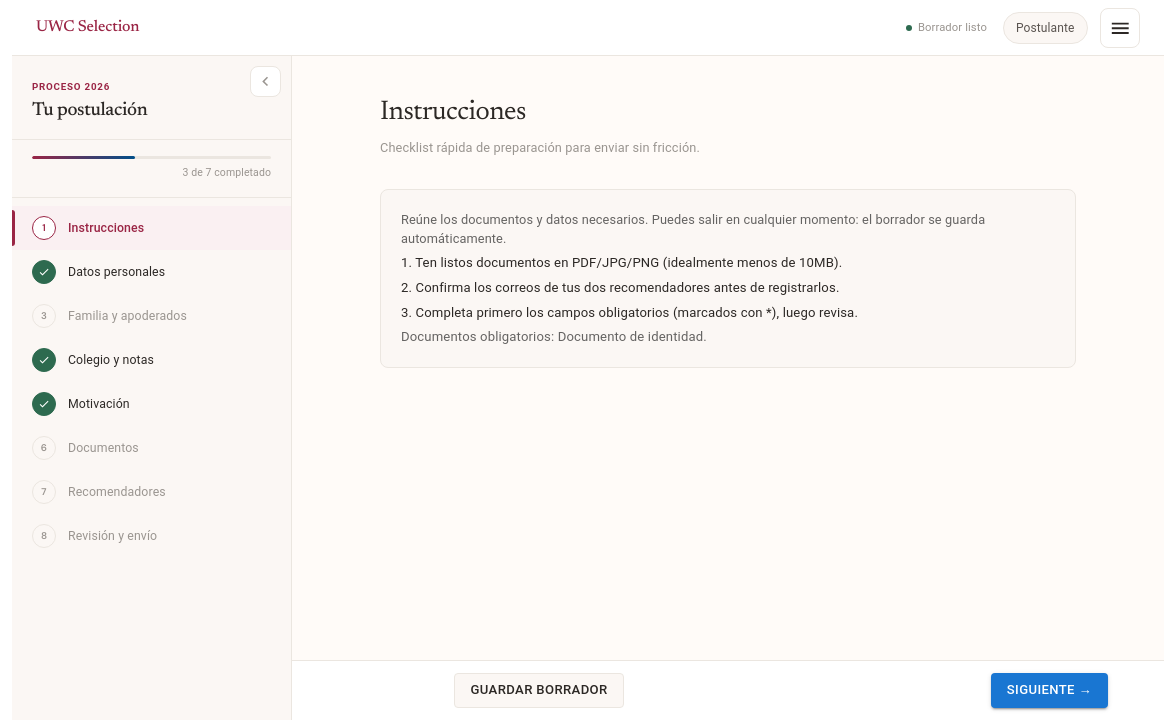
Test: ApplicantApplicationForm › shows the server configuration error and error id when recommender registration fails on the backend
Click the button "7 Recomendadores" at (152, 492), box 12,470 -> 291,514
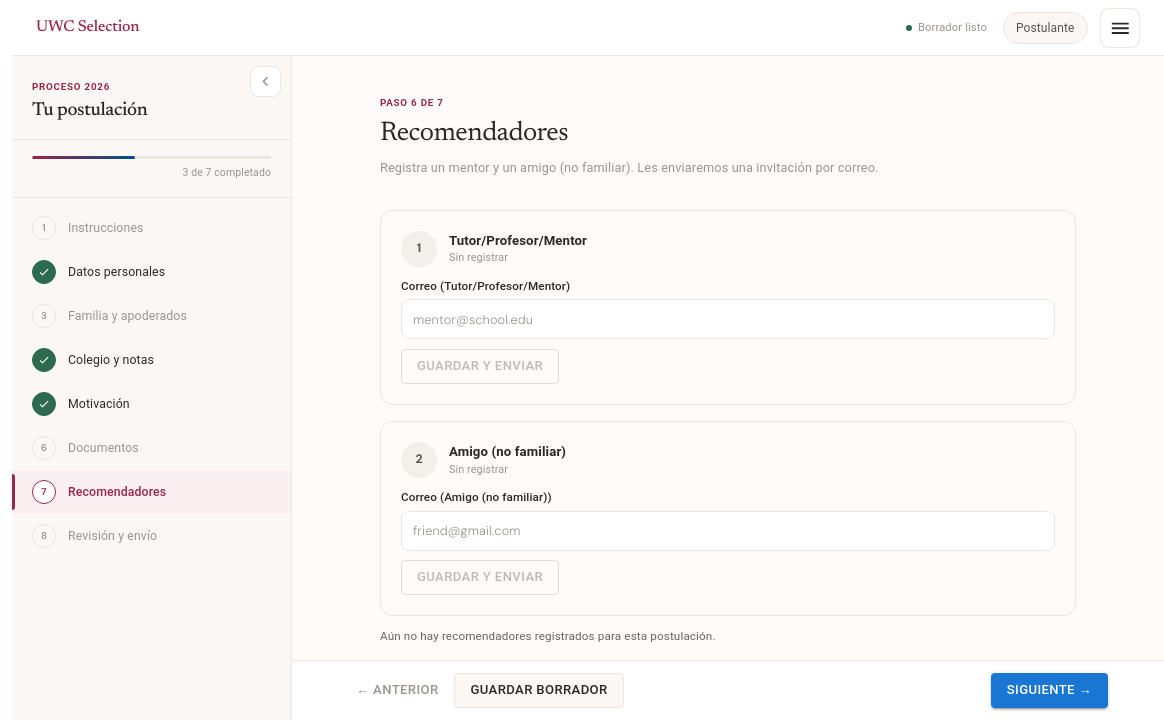
Type "mentor@example.com" into the field named "Correo (Tutor/Profesor/Mentor)" at (728, 319), box 401,301 -> 1055,337
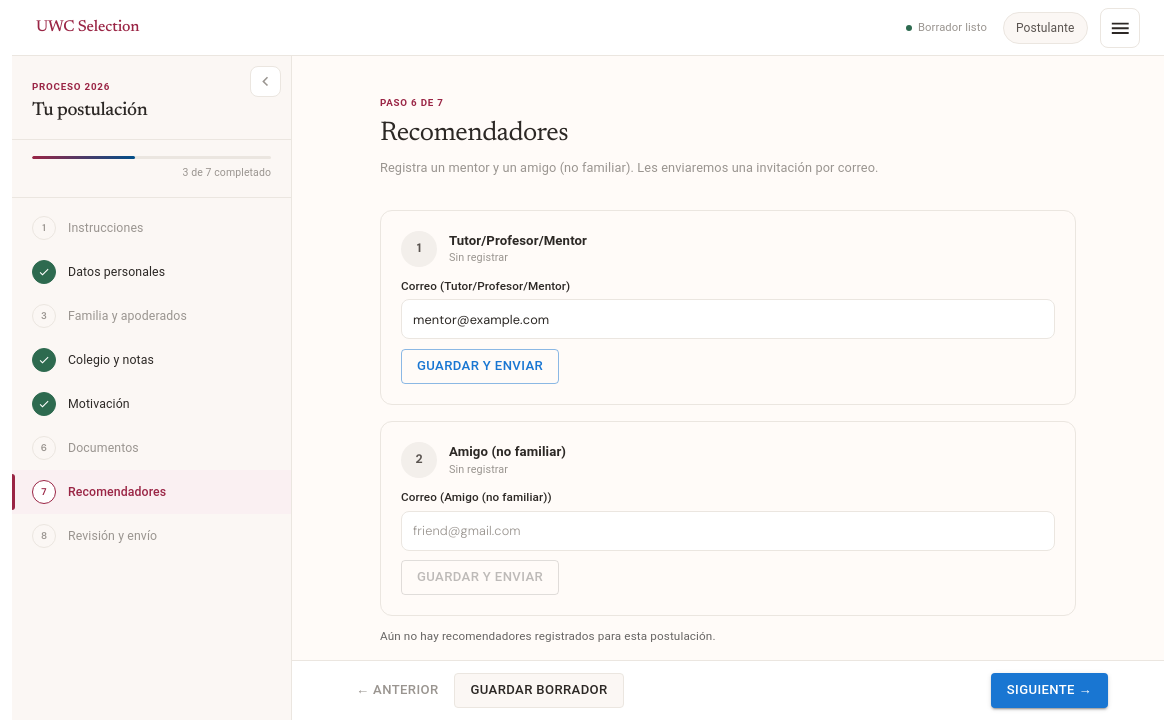
Type "friend@example.com" into the field named "Correo (Amigo" at (728, 531), box 401,512 -> 1055,549
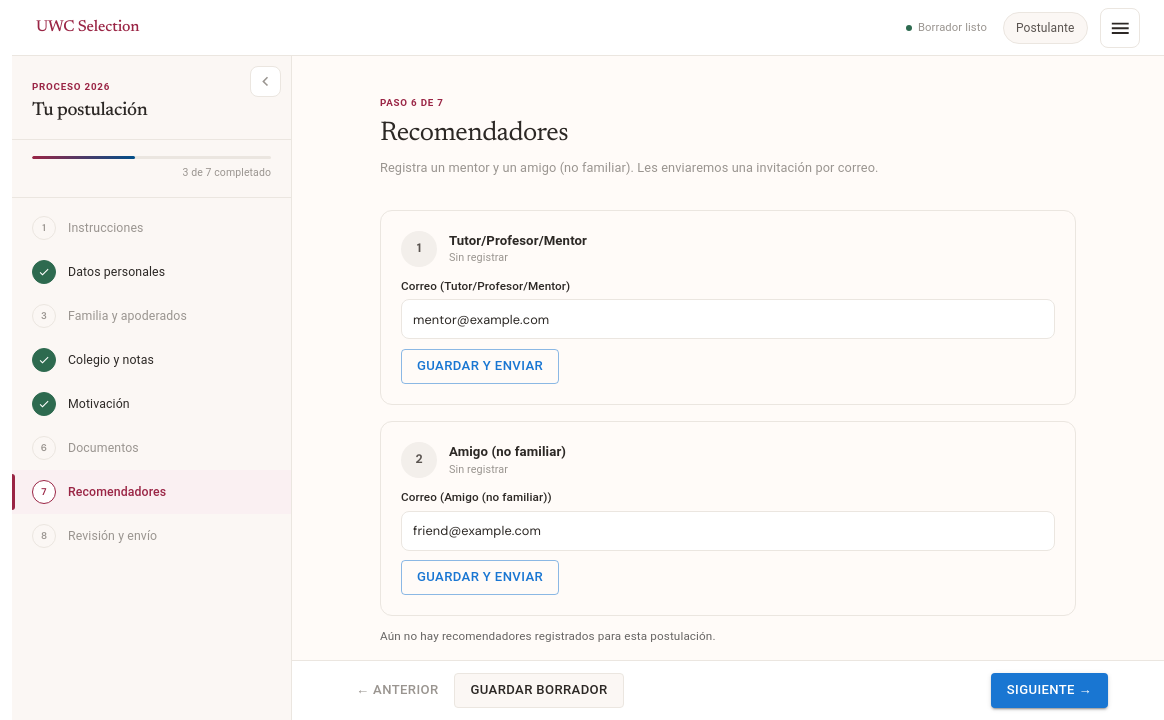
Click the button "Guardar y enviar" below "Correo (Tutor/Profesor/Mentor)" at (480, 366), box 401,349 -> 559,384
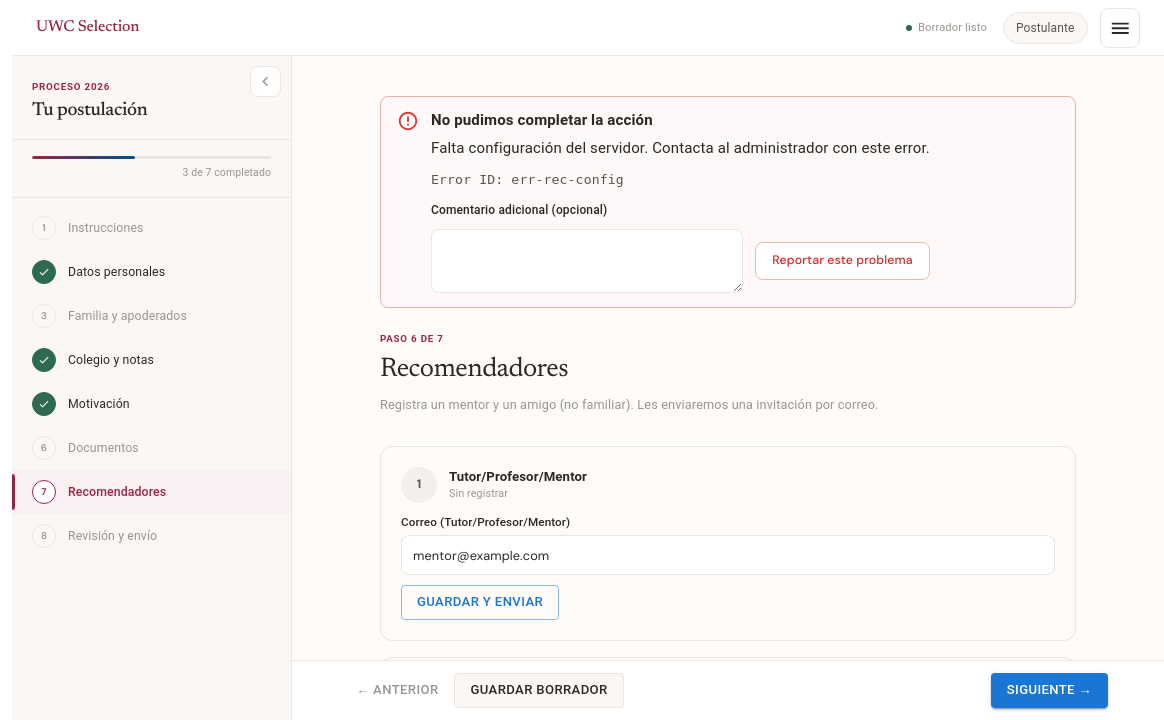
Now the text "Falta configuración del servidor. Contacta al administrador con este error." is shown, box 431,137 -> 930,159
Now the text "Error ID: err-rec-config" is shown, box 431,172 -> 624,187
